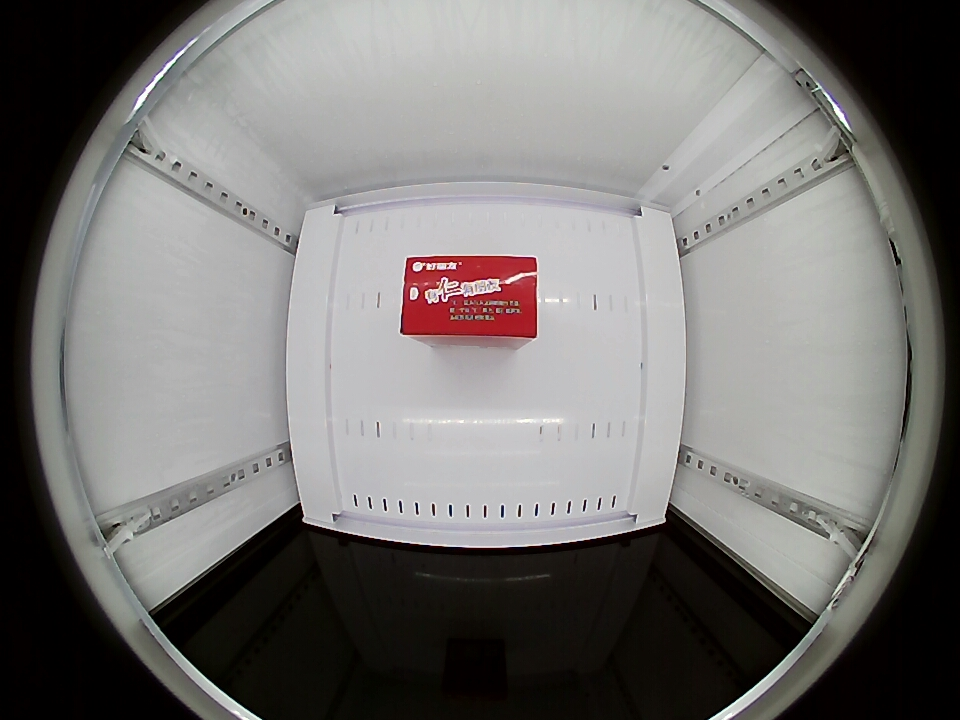haoliyou: (401, 254, 538, 342)
